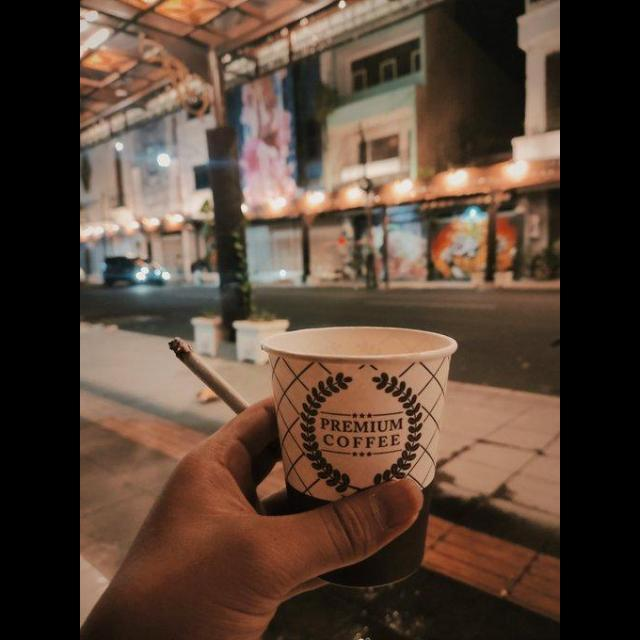rokok: (167, 328, 256, 418)
